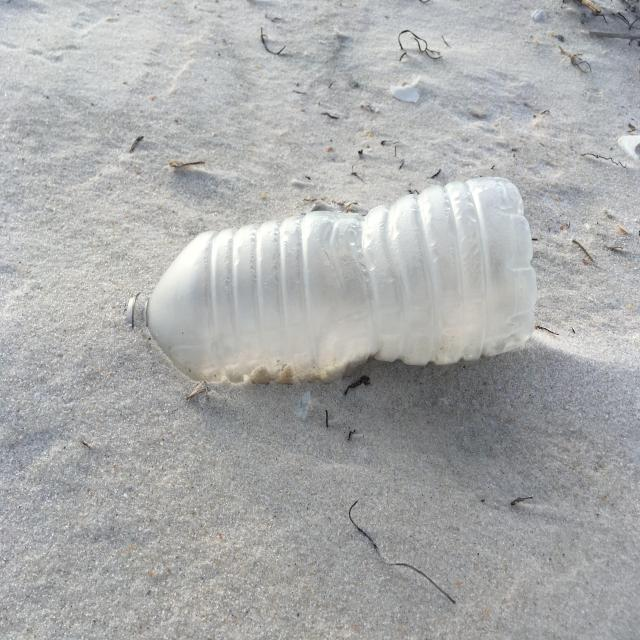litter: (127, 176, 537, 385)
